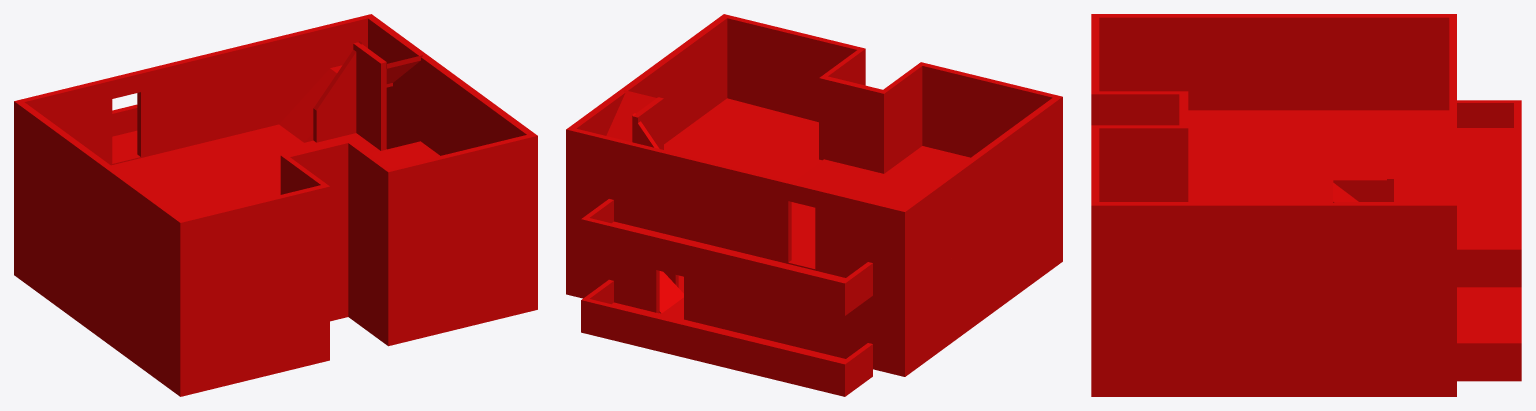
File: SM_Bld_HighRise_Medium_01_Interior_Stack_01_Collision.fbx
3 views of the same model, side by side, from view 1: azimuth 30°, elevation 25°; view 2: azimuth 150°, elevation 25°; view 3: azimuth 270°, elevation 25° (orthographic). The views are drawn at different scales.
Visible parts, largest first — view 1: SM_Bld_HighRise_Medium_01_Interior_Stack_01_Collision; view 2: SM_Bld_HighRise_Medium_01_Interior_Stack_01_Collision; view 3: SM_Bld_HighRise_Medium_01_Interior_Stack_01_Collision.
Part boxes in pixels (box(x1,y1,x2,y2)): SM_Bld_HighRise_Medium_01_Interior_Stack_01_Collision: box(14, 14, 537, 396); SM_Bld_HighRise_Medium_01_Interior_Stack_01_Collision: box(566, 14, 1062, 396); SM_Bld_HighRise_Medium_01_Interior_Stack_01_Collision: box(1091, 14, 1521, 396).
Size of the model in its own units: 1290 by 641 by 1224.
